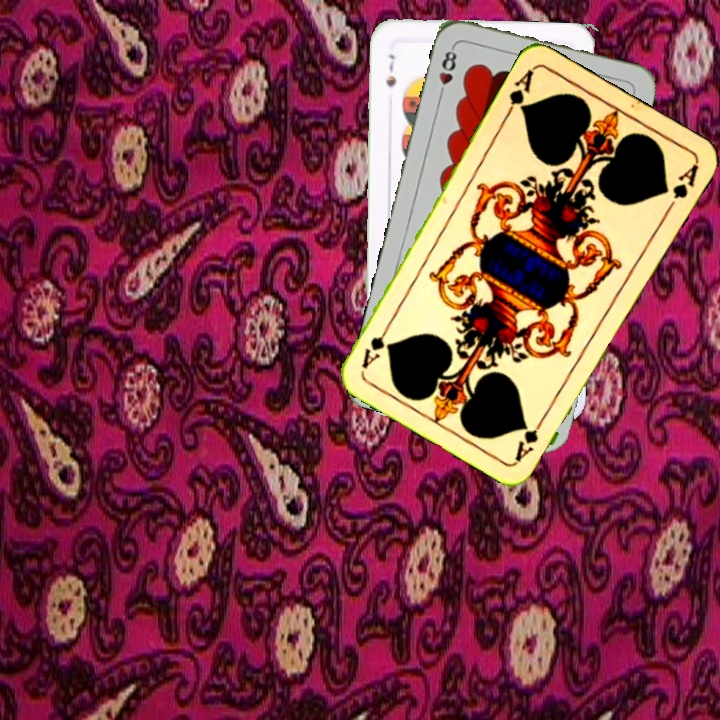GA: (501, 64, 537, 120), (511, 410, 549, 463)
H8: (435, 43, 460, 101)
S7: (382, 50, 399, 89)
